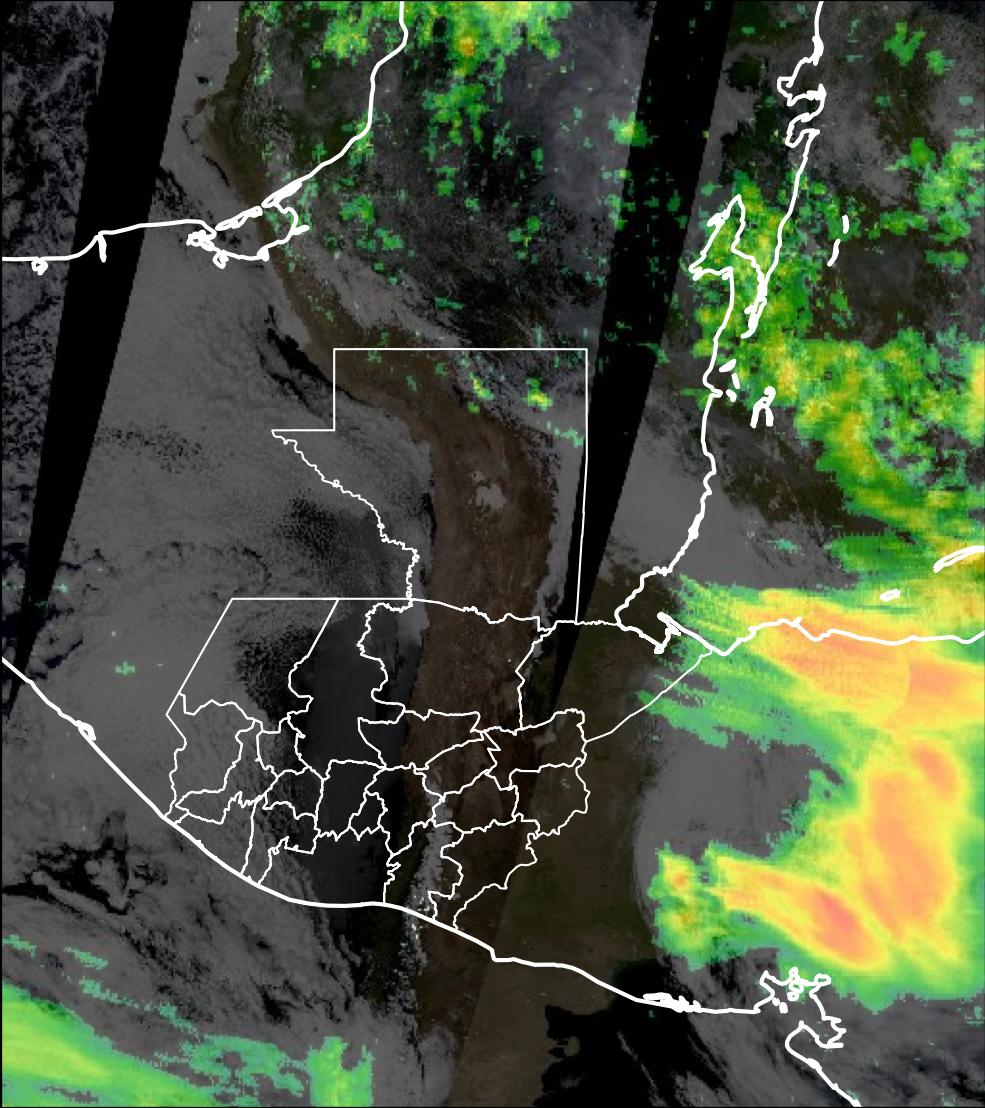precipitacion: (849, 740, 975, 942), (718, 864, 918, 972)
